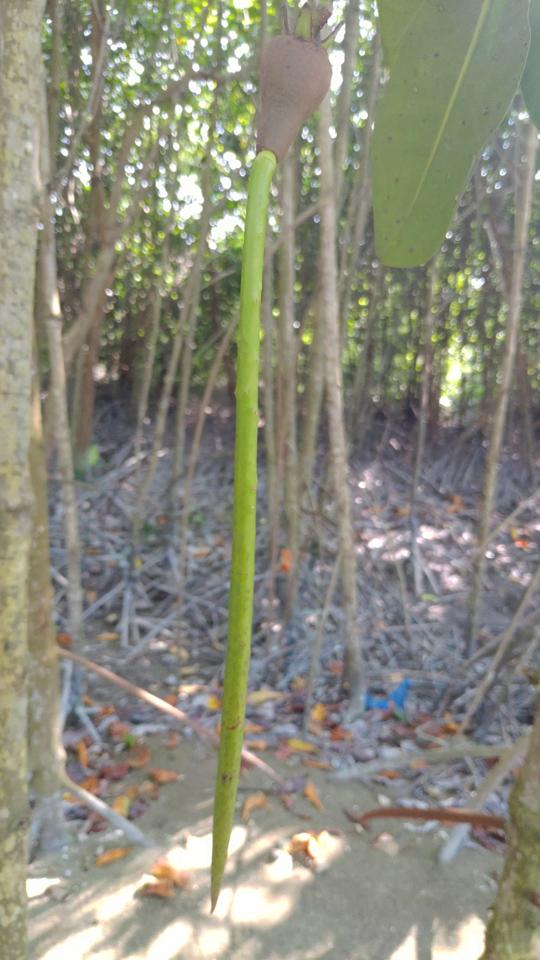setengah matang: (196, 3, 361, 927)
